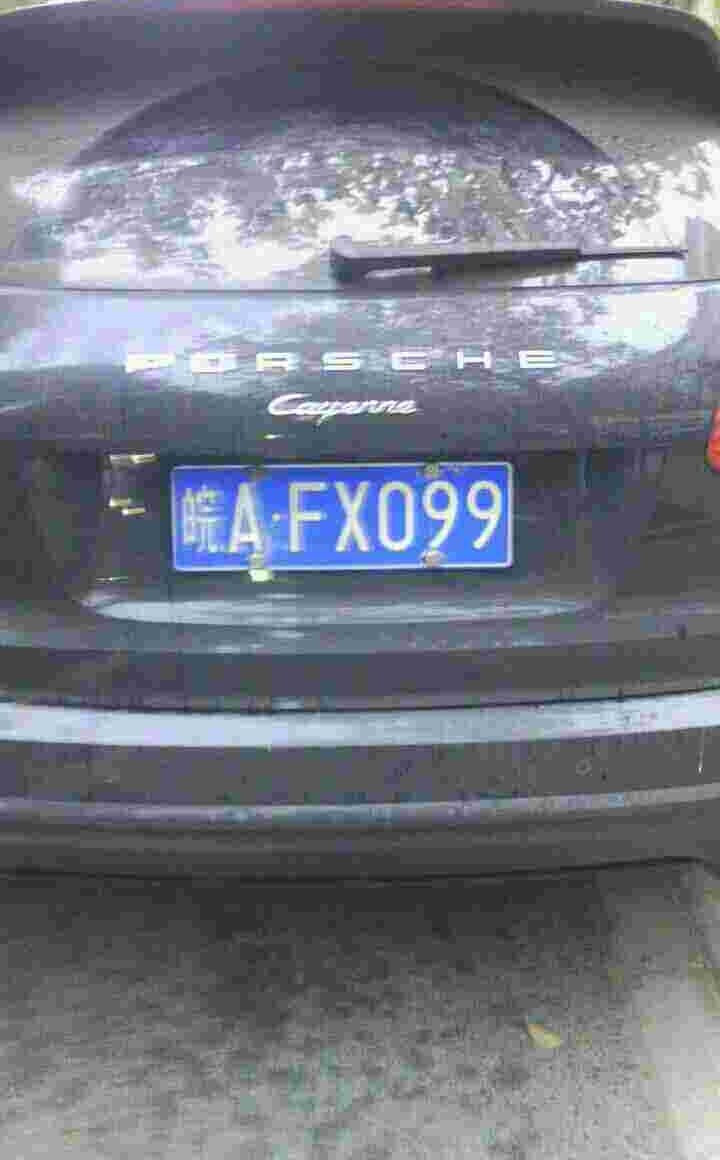license_plate: (187, 463, 520, 572)
